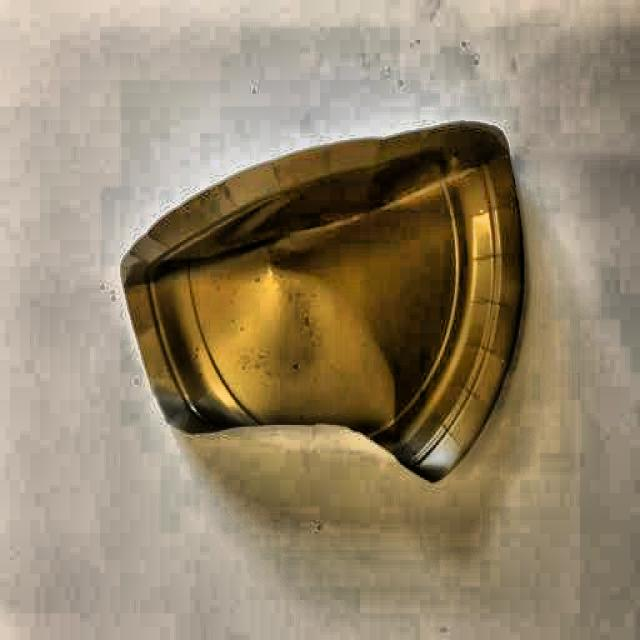paper: (119, 116, 520, 480)
